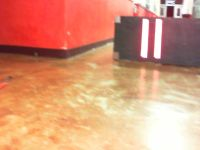switch: (139, 19, 150, 58), (153, 19, 163, 58)
